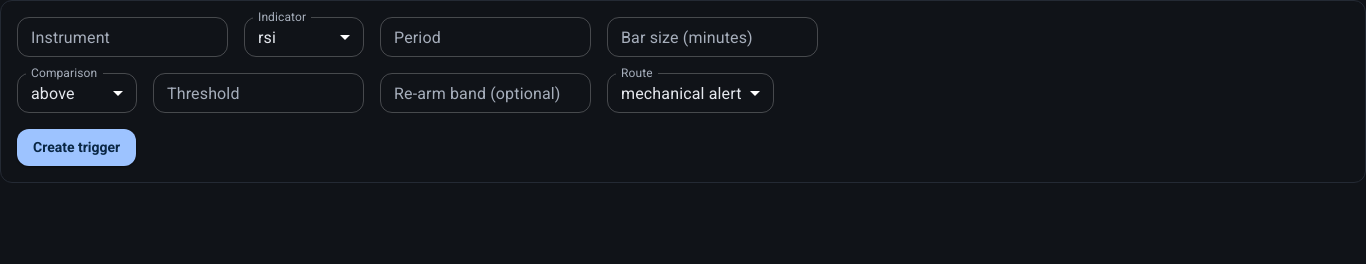
Test: TriggerForm › refuses a Period that is not a number (blank becomes 0 and the server refuses it)
This screenshot has width=1366, height=264.
Step 1. Type "ES" into the field labelled "Instrument" → (122, 37), box top-left (17, 17), bottom-right (228, 57)
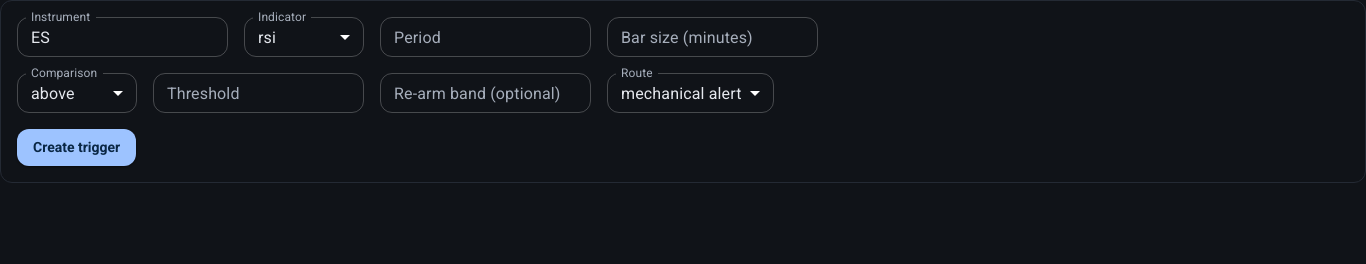
Step 2. Type "14" into the field labelled "Period" → (486, 37), box top-left (380, 17), bottom-right (591, 57)
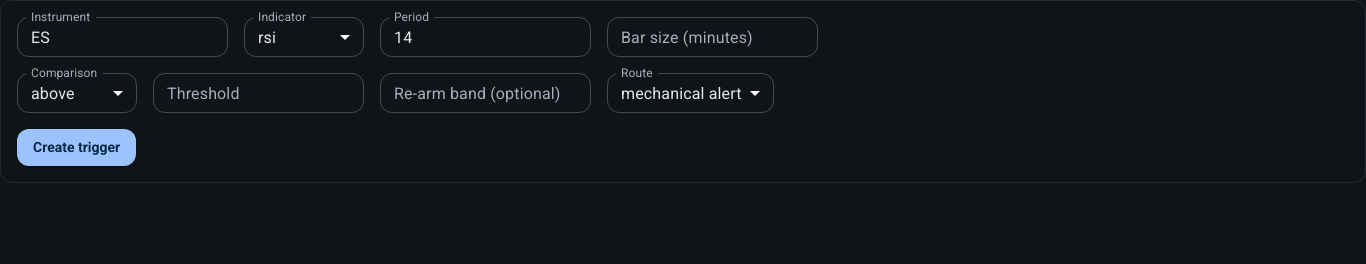
Step 3. Type "5" into the field labelled "Bar size (minutes)" → (712, 37), box top-left (607, 17), bottom-right (818, 57)
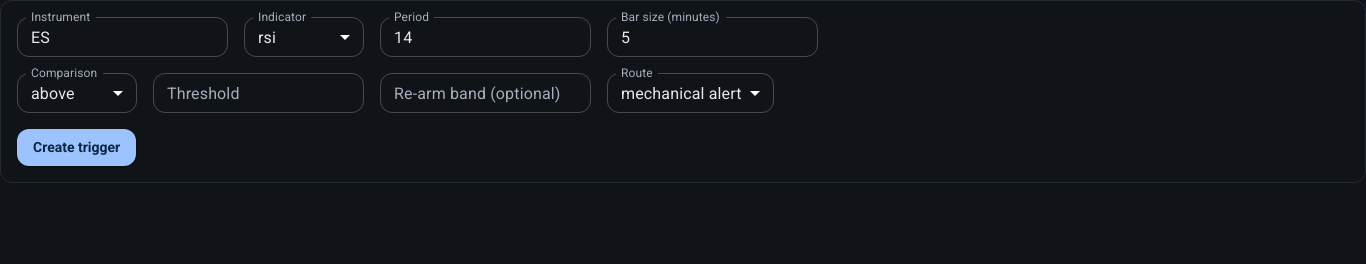
Step 4. Type "70" into the field labelled "Threshold" → (258, 93), box top-left (153, 73), bottom-right (364, 113)
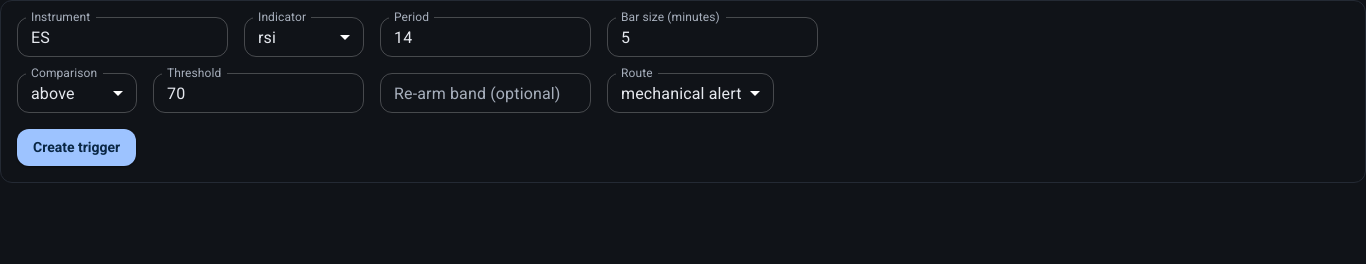
Step 5. Clear the field labelled "Period" → (486, 37), box top-left (380, 17), bottom-right (591, 57)
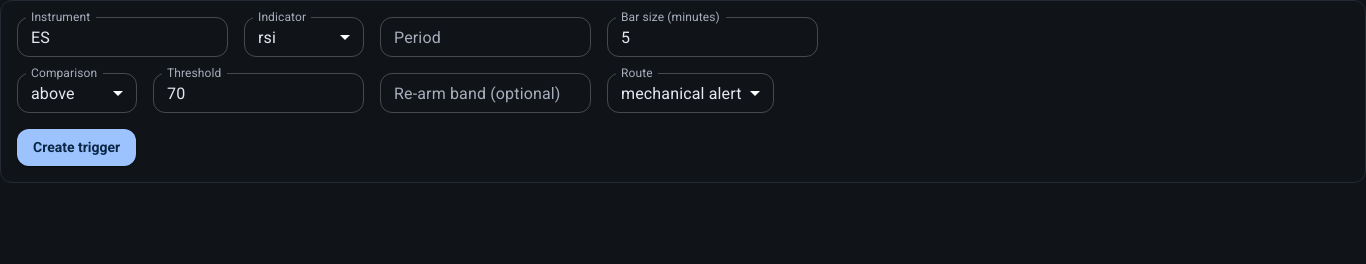
Step 6. Click the button "Create trigger" → (77, 147), box top-left (17, 129), bottom-right (136, 166)
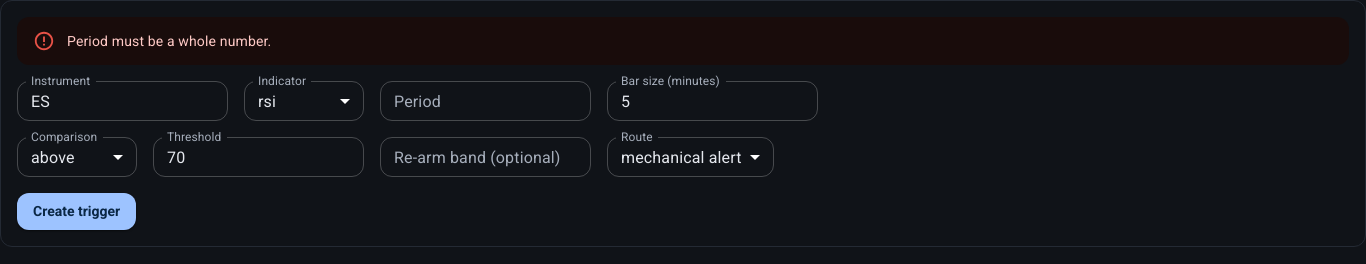
Check: the message "Period must be a whole number." is shown, box top-left (17, 17), bottom-right (1349, 65)
